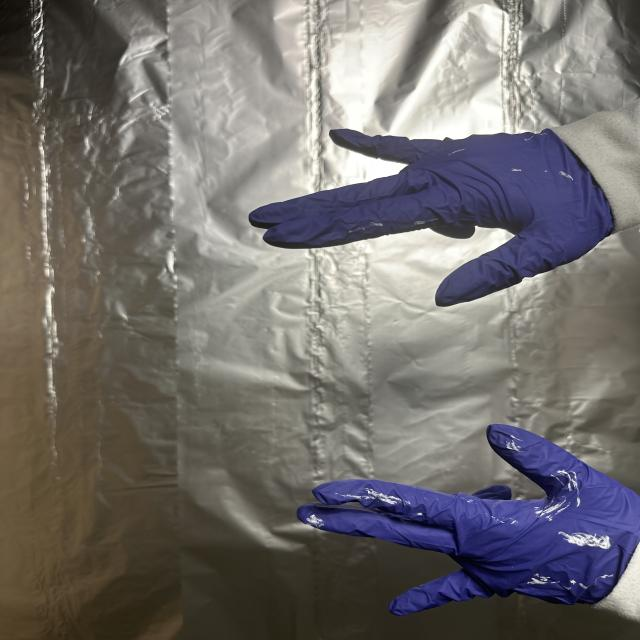gloves_contaminated: (298, 424, 640, 615), (250, 130, 614, 306)
